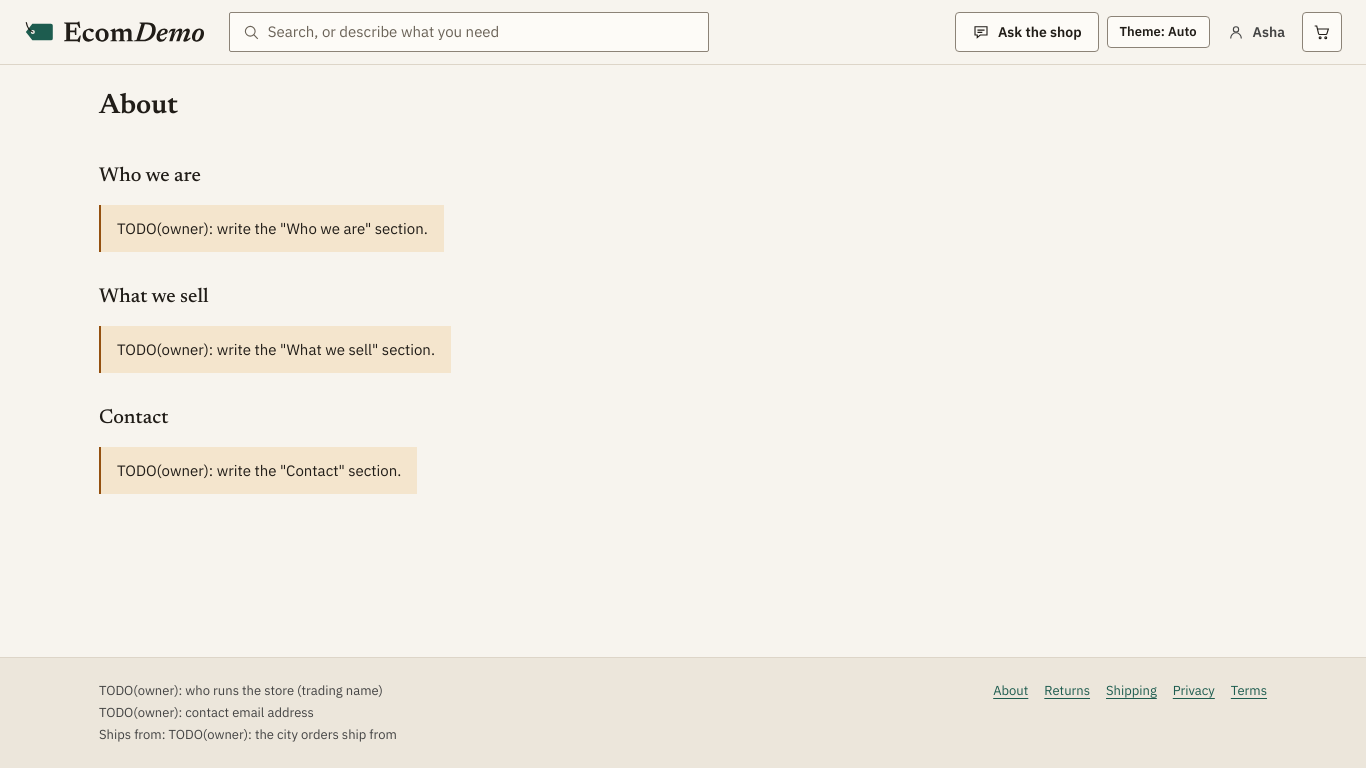
Test: the account menu › closes on a click anywhere else, but not on a click inside it
Expected: the heading "About" is shown, [99,89,178,123]
Click the button with aria-label "Account: Asha" at (1256, 32), box [1218,12,1294,52]
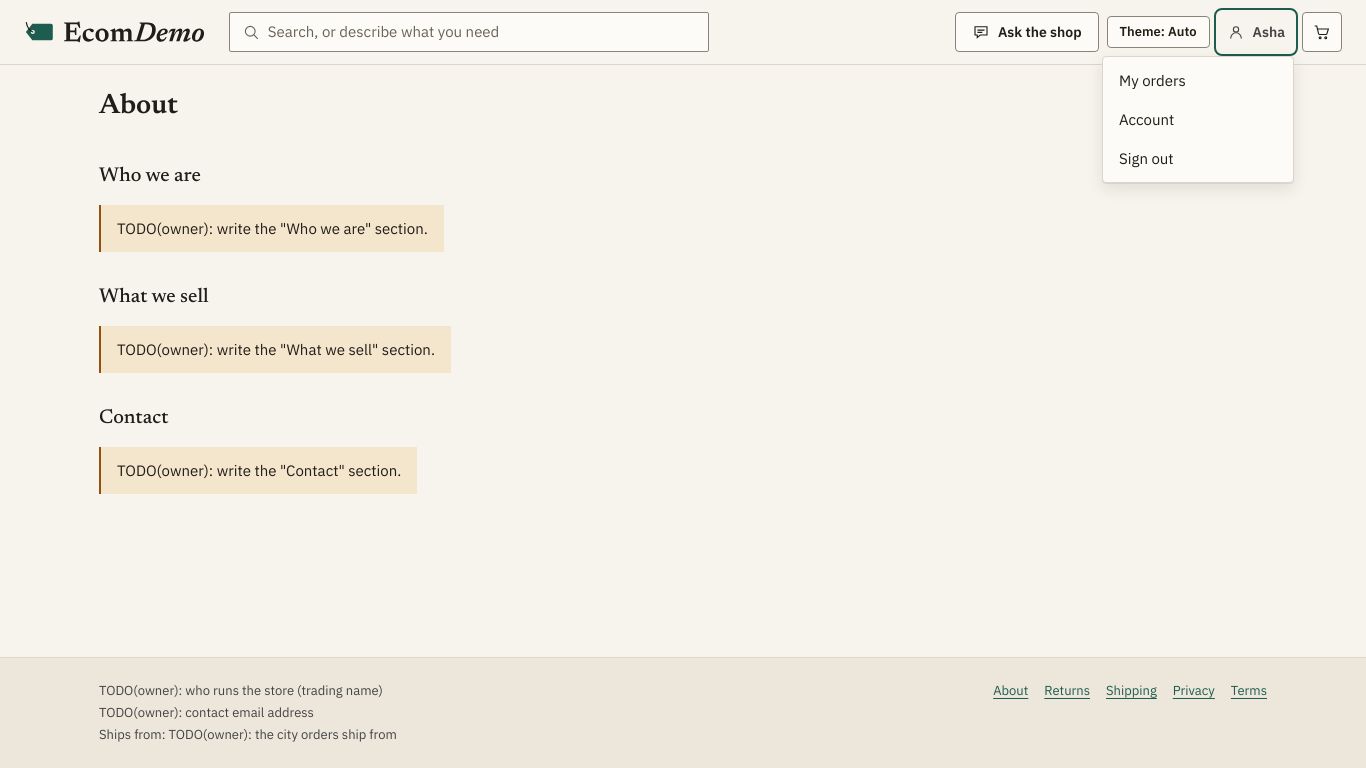
Click the list at (1198, 120), box [1102,56,1294,183]
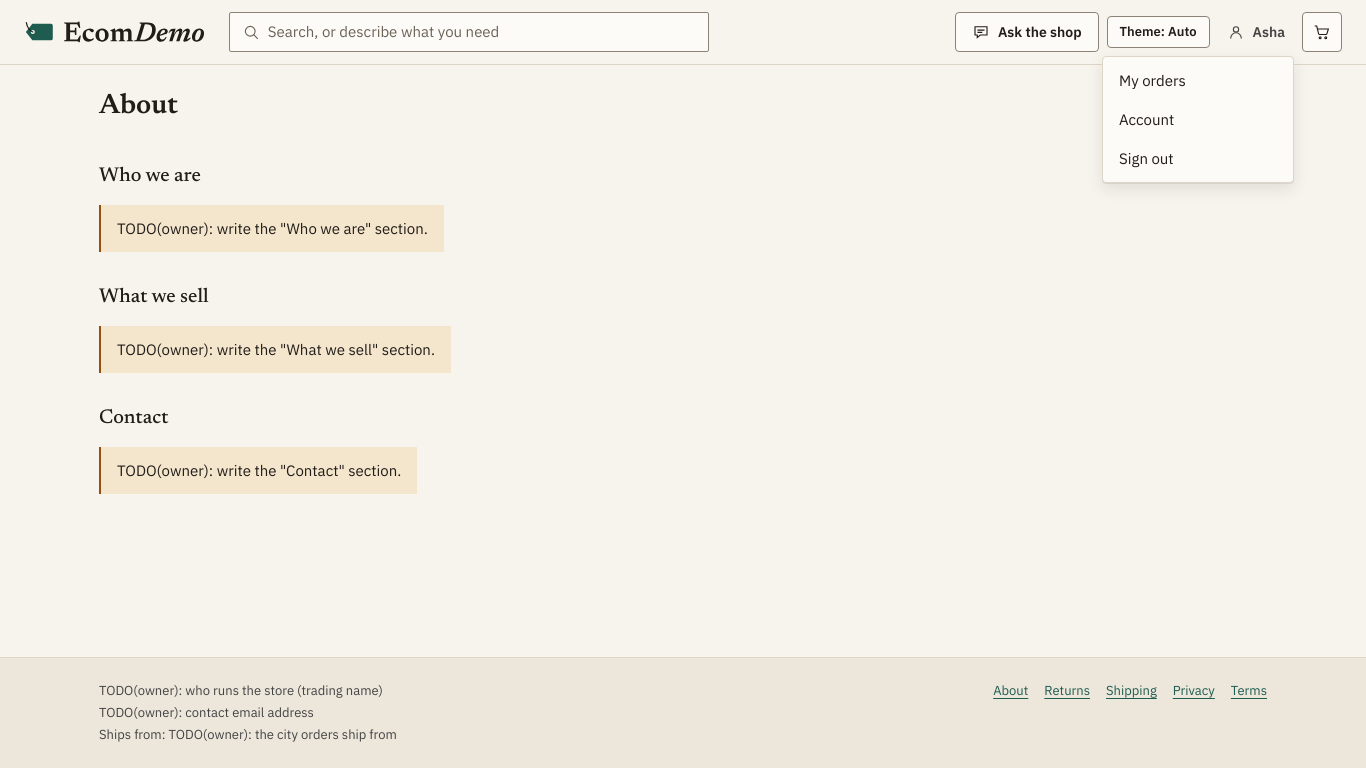
Expected: the link "My orders" is shown, [1119,71,1186,90]
Click the element that starts with "About" at (138, 106), box [99,92,451,494]
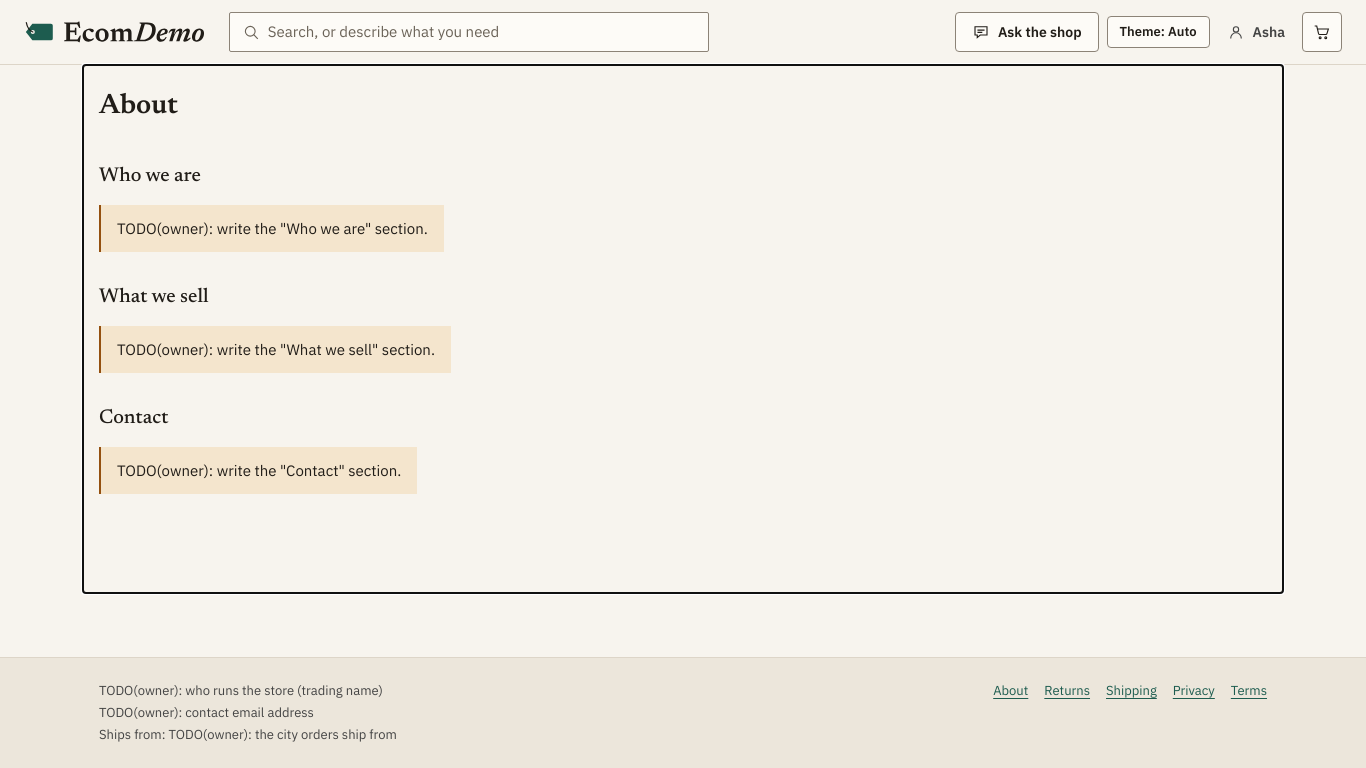
Expected: the link "My orders" is gone
